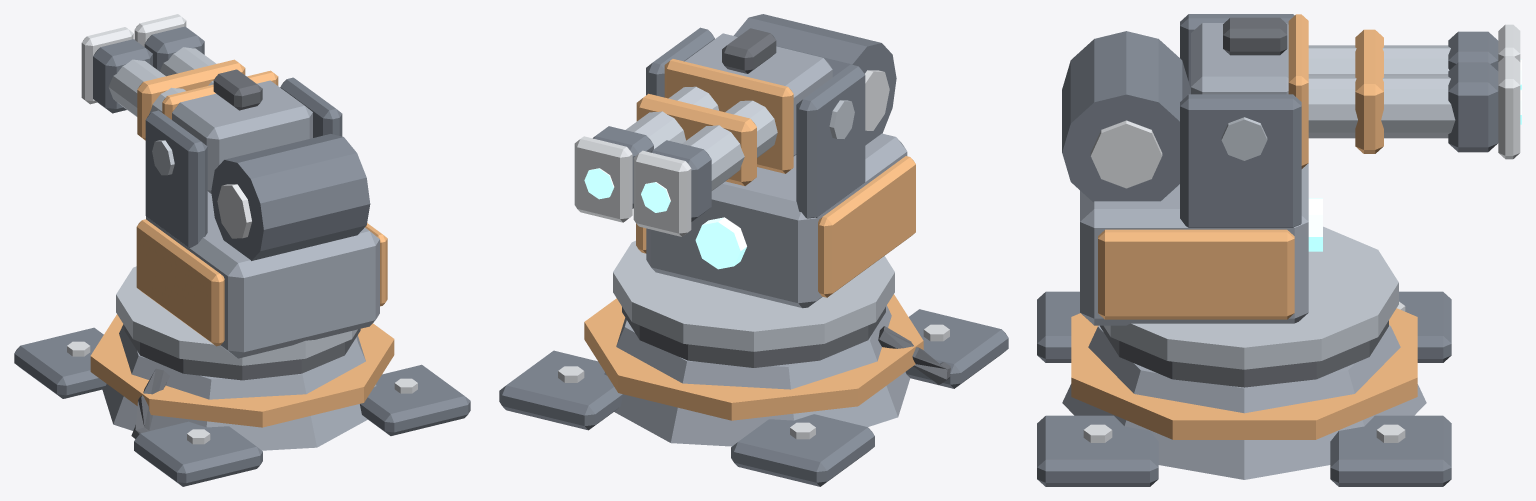
File: Turret.fbx
The picture shows the model from 3 angles, left to right: view 1: azimuth 30°, elevation 25°; view 2: azimuth 150°, elevation 25°; view 3: azimuth 270°, elevation 25°; orthographic projection. The views are drawn at different scales.
Parts seen in each view (by area): view 1: Turret.HeadHousing, Turret.BaseFeet, Turret.HeadDrum, Turret.BaseCollar, Turret.BasePlinth, Turret.HeadYoke, Turret.HeadCheeks, Turret.BarrelCradle, Turret.HeadTurntable, Turret.BarrelMuzzles, Turret.BaseRing, Turret.BarrelTubes (+8 smaller); view 2: Turret.BaseFeet, Turret.HeadTurntable, Turret.HeadHousing, Turret.BasePlinth, Turret.BaseCollar, Turret.HeadYoke, Turret.HeadCheeks, Turret.BarrelBrakeTips, Turret.BarrelMantlet, Turret.BarrelTubes, Turret.HeadDrum, Turret.BaseRing (+10 smaller); view 3: Turret.BaseFeet, Turret.HeadCheeks, Turret.HeadTurntable, Turret.HeadYoke, Turret.BasePlinth, Turret.HeadDrum, Turret.BaseCollar, Turret.BarrelTubes, Turret.HeadHousing, Turret.BarrelMuzzles, Turret.BarrelCradle, Turret.BaseRing (+8 smaller).
Boxes of the visible parts, left/top/right/bottom form: Turret.HeadHousing: left=146, top=192, right=379, bottom=358; Turret.BaseFeet: left=14, top=327, right=470, bottom=486; Turret.HeadDrum: left=211, top=134, right=370, bottom=260; Turret.BaseCollar: left=90, top=314, right=394, bottom=427; Turret.BasePlinth: left=102, top=324, right=376, bottom=450; Turret.HeadYoke: left=145, top=77, right=342, bottom=247; Turret.HeadCheeks: left=136, top=219, right=387, bottom=346; Turret.BarrelCradle: left=172, top=80, right=312, bottom=193; Turret.HeadTurntable: left=116, top=266, right=357, bottom=365; Turret.BarrelMuzzles: left=93, top=26, right=204, bottom=113; Turret.BaseRing: left=124, top=326, right=360, bottom=380; Turret.BarrelTubes: left=108, top=47, right=216, bottom=116; Turret.BaseFeet: left=499, top=309, right=1008, bottom=486; Turret.HeadTurntable: left=613, top=240, right=894, bottom=351; Turret.HeadHousing: left=646, top=133, right=907, bottom=308; Turret.BasePlinth: left=604, top=305, right=910, bottom=446; Turret.BaseCollar: left=584, top=294, right=923, bottom=420; Turret.HeadYoke: left=646, top=27, right=865, bottom=218; Turret.HeadCheeks: left=636, top=156, right=915, bottom=297; Turret.BarrelBrakeTips: left=574, top=136, right=691, bottom=236; Turret.BarrelMantlet: left=664, top=59, right=793, bottom=173; Turret.BarrelTubes: left=626, top=86, right=777, bottom=190; Turret.HeadDrum: left=733, top=14, right=896, bottom=145; Turret.BaseRing: left=622, top=307, right=885, bottom=367; Turret.BaseFeet: left=1037, top=291, right=1451, bottom=486; Turret.HeadCheeks: left=1098, top=229, right=1294, bottom=319; Turret.HeadTurntable: left=1104, top=226, right=1398, bottom=369; Turret.HeadYoke: left=1180, top=14, right=1301, bottom=227; Turret.BasePlinth: left=1062, top=325, right=1426, bottom=479; Turret.HeadDrum: left=1062, top=31, right=1190, bottom=202; Turret.BaseCollar: left=1071, top=308, right=1417, bottom=439; Turret.BarrelTubes: left=1308, top=45, right=1455, bottom=138; Turret.HeadHousing: left=1080, top=163, right=1308, bottom=325; Turret.BarrelMuzzles: left=1448, top=31, right=1498, bottom=152; Turret.BarrelCradle: left=1191, top=23, right=1288, bottom=94; Turret.BaseRing: left=1100, top=320, right=1388, bottom=387.
Bounding box in the file's own units: 5.8 × 5.86 × 6.78.
